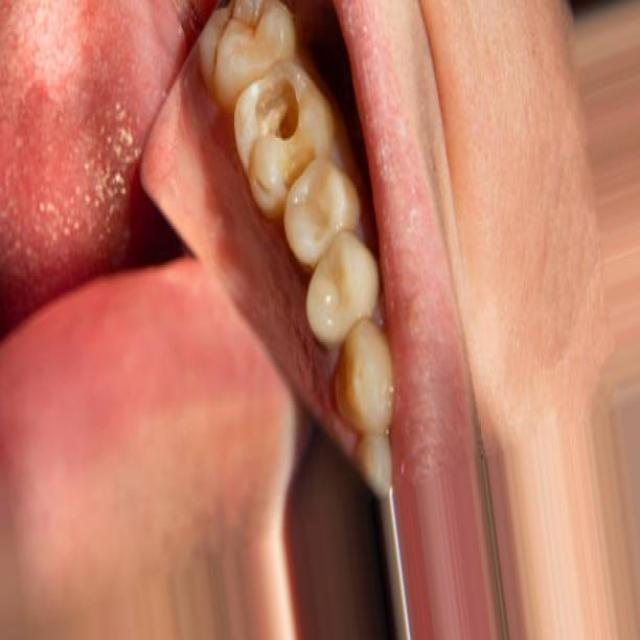caries: (240, 58, 327, 197)
